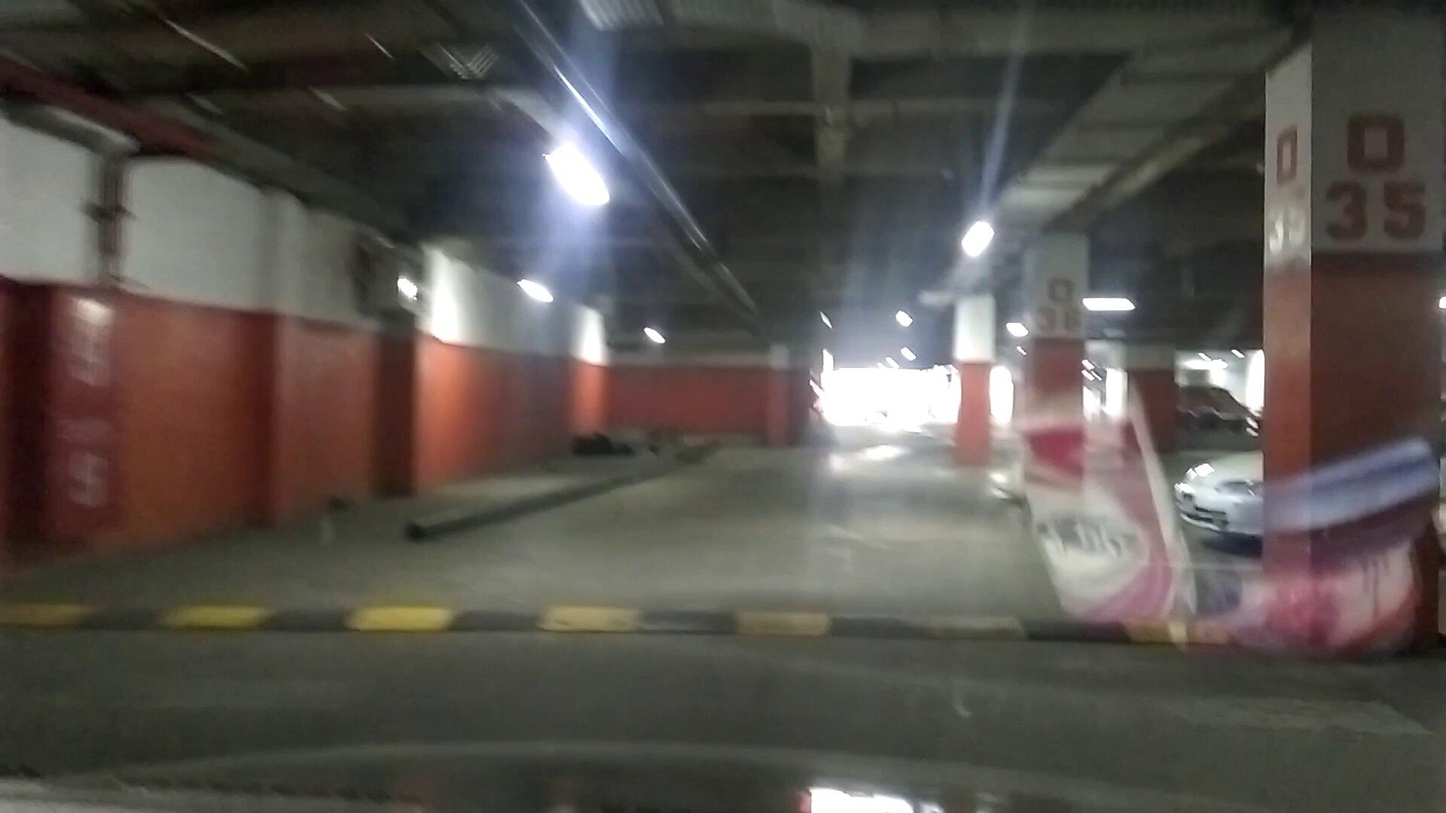Bump: (6, 582, 1273, 676)
